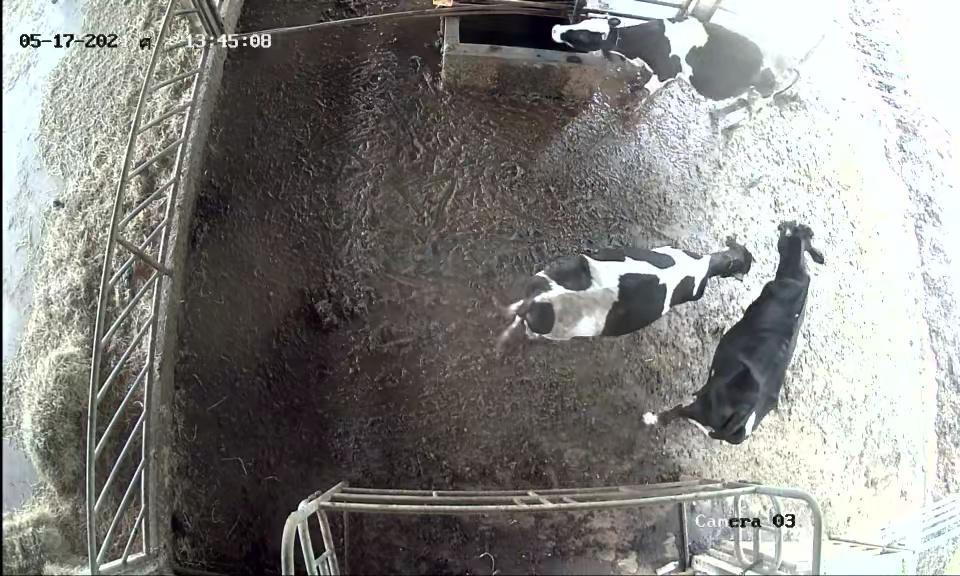drink: (550, 4, 647, 91)
stand: (640, 208, 834, 468), (493, 213, 761, 358)
